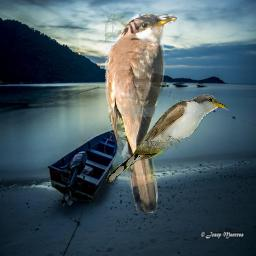Cuckoo: (105, 14, 177, 213), (104, 93, 230, 184)
